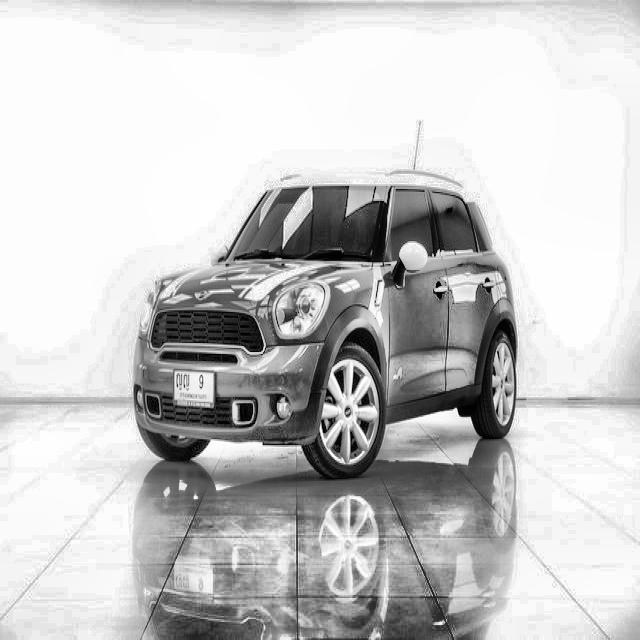license-plate: (168, 360, 219, 417)
